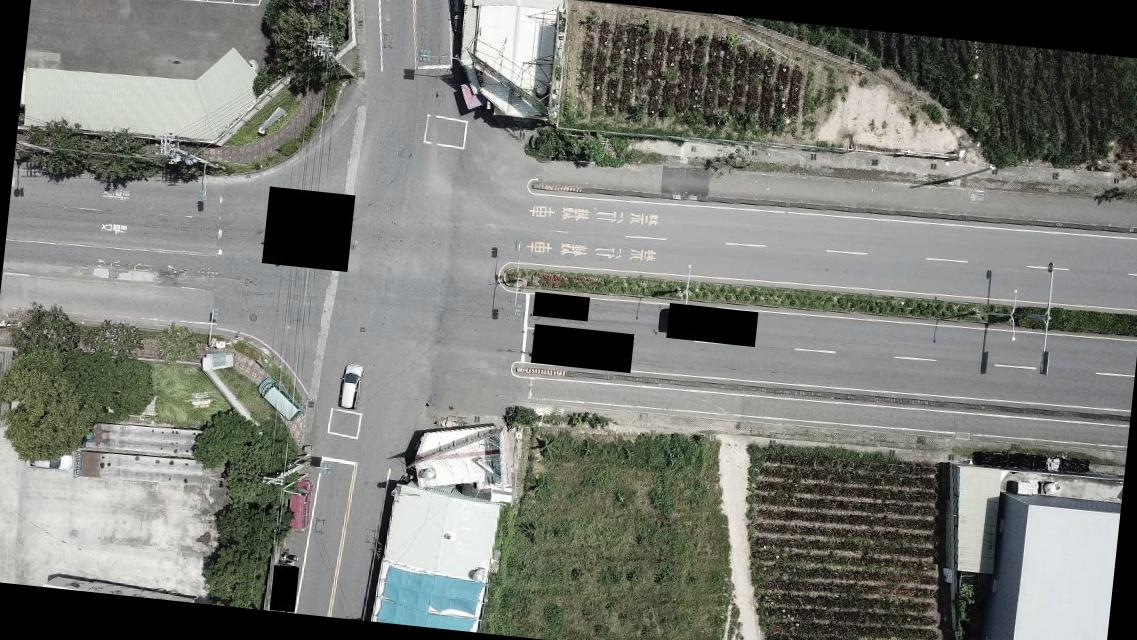vehicle: (250, 372, 307, 423), (281, 482, 314, 533), (336, 361, 364, 414), (25, 447, 75, 471), (441, 0, 470, 36)
